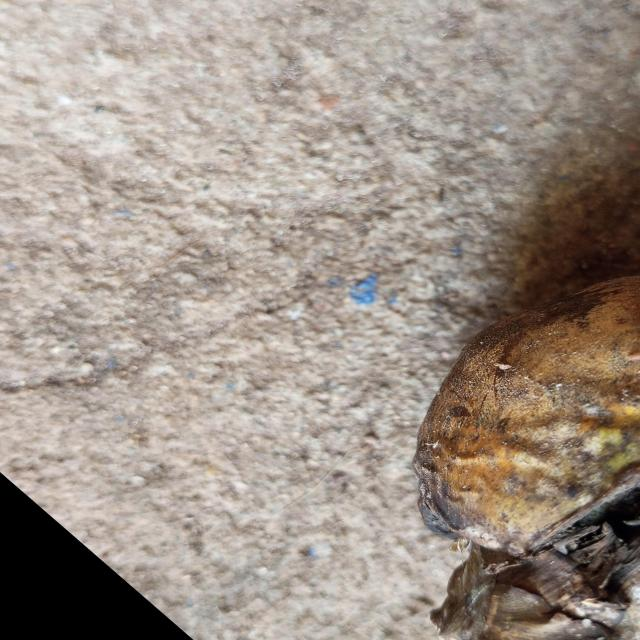damaged: (414, 276, 640, 640)
